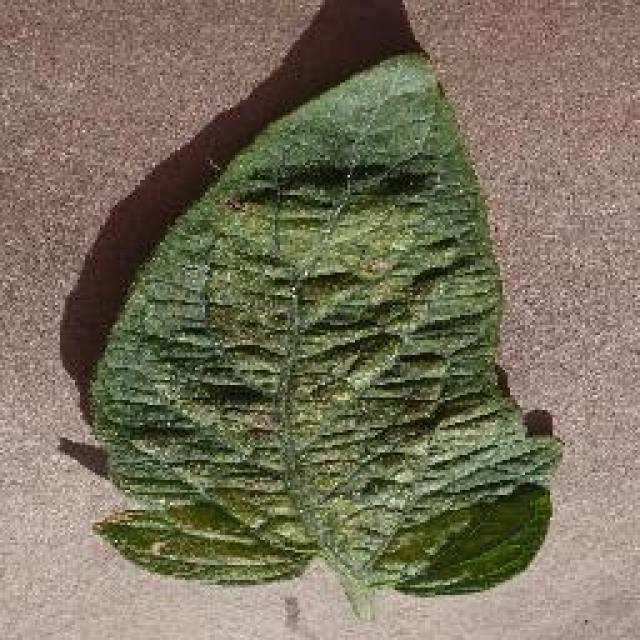Tomato mosaic virus leaf: (85, 54, 545, 596)
